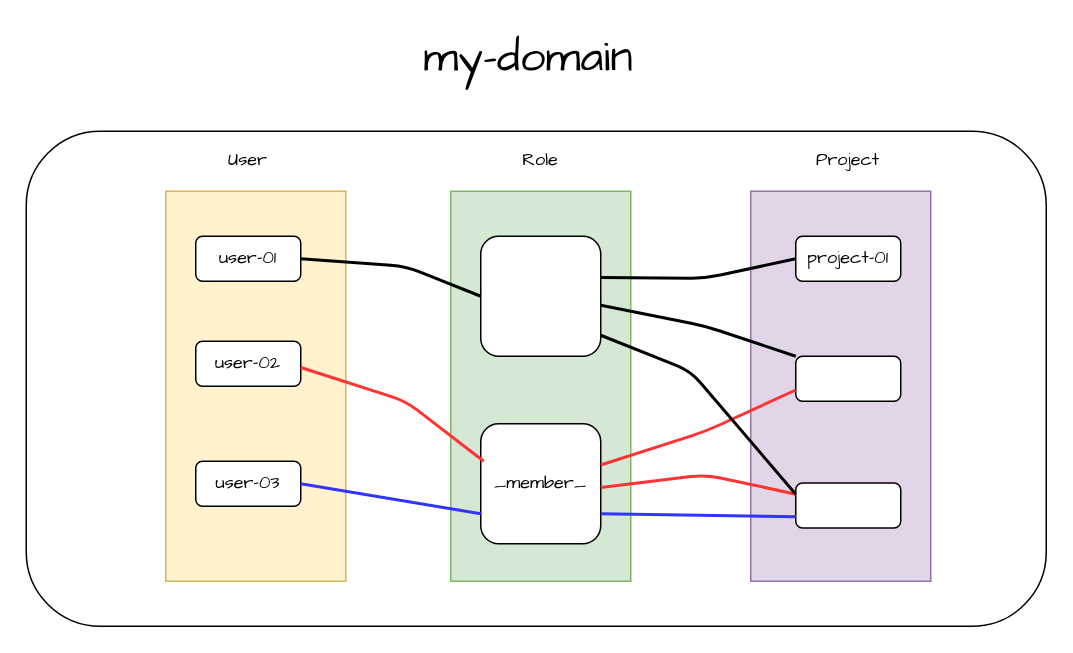
Image size: 1073x653. Some labels were removed from this diagram. The shapes that lost their labels are listed below. From the top down, each one's centre as x and y in pixels, then its label:
At [540,295]: "Admin".
At [847,378]: "project-02".
At [847,505]: "project-03".
